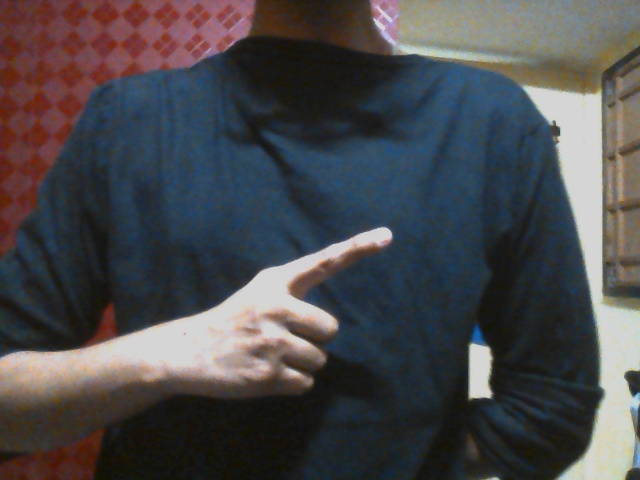I: (188, 226, 394, 401)
